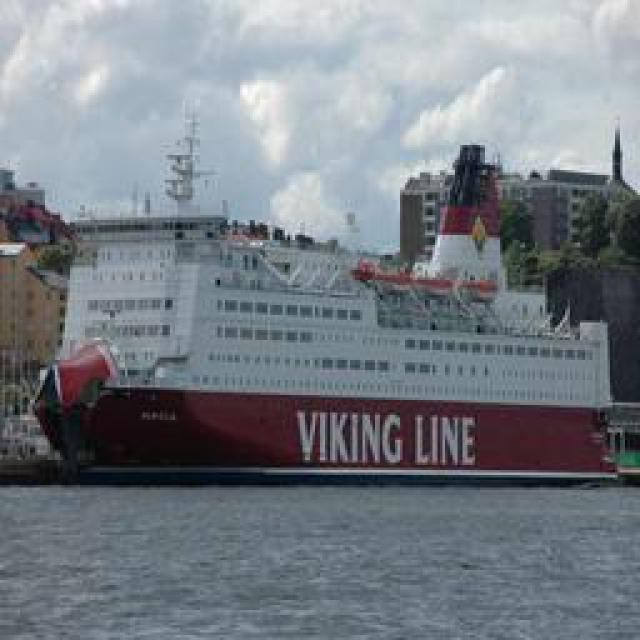Ship: (20, 131, 628, 489)
